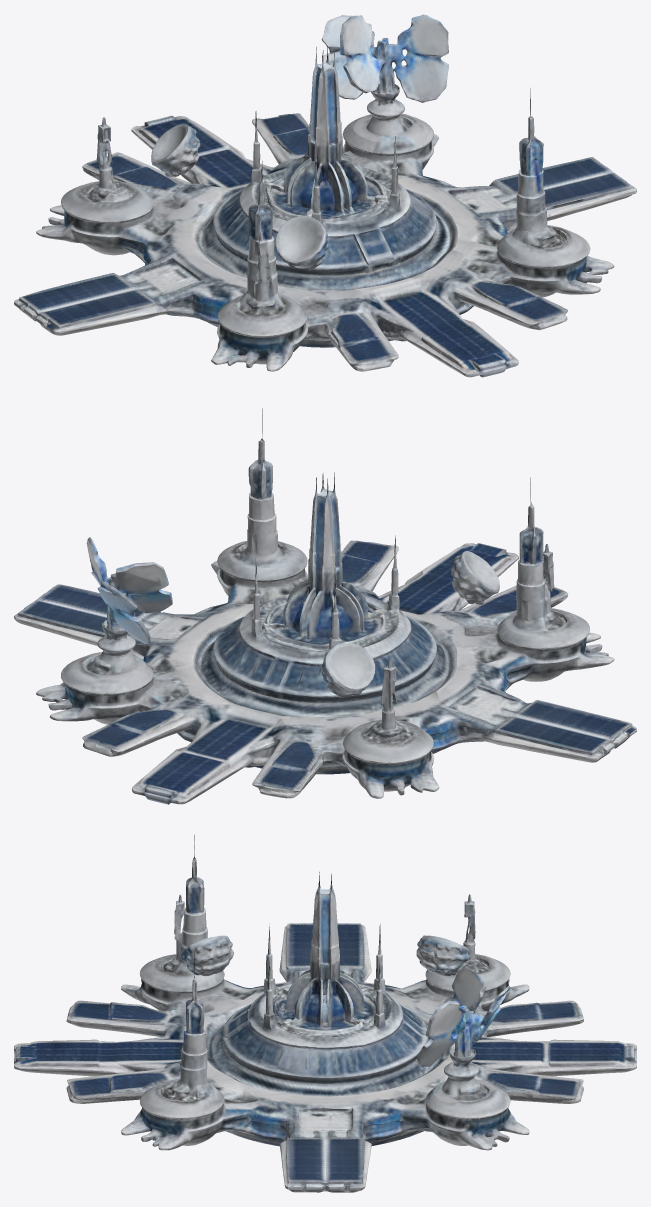
The model's file is alliance_research_outpost.glb.
The picture shows the model from 3 angles, top to bottom: view 1: azimuth 30°, elevation 25°; view 2: azimuth 150°, elevation 25°; view 3: azimuth 270°, elevation 25°; orthographic projection. The views are drawn at different scales.
Parts seen in each view (by area): view 1: model; view 2: model; view 3: model.
Boxes of the visible parts, bbox=[...] form: model: bbox=[14, 14, 636, 377]; model: bbox=[14, 408, 636, 804]; model: bbox=[14, 835, 636, 1192].
Size of the model in its own units: 1.89 by 0.8416 by 1.9.
1 material, 1 textured.
